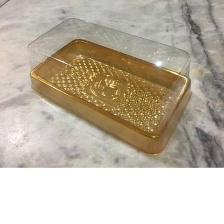plastic_box: (20, 12, 204, 159)
